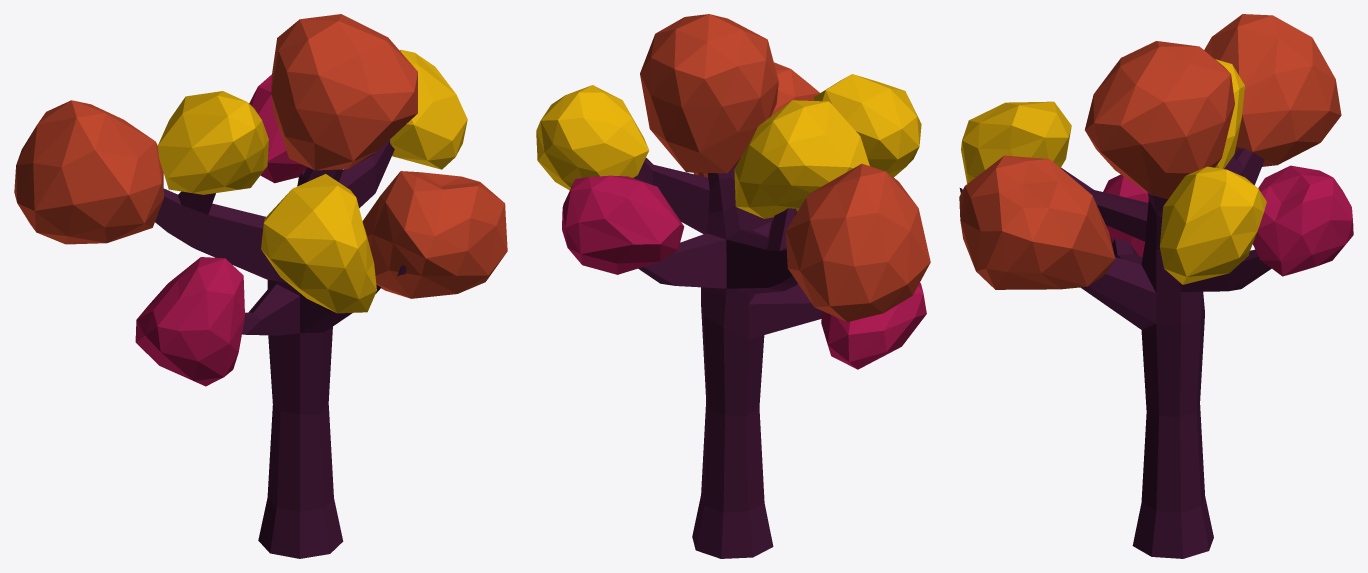
Rendered from Tree.fbx.
3 renders of one model, left to right at view 1: azimuth 30°, elevation 25°; view 2: azimuth 150°, elevation 25°; view 3: azimuth 270°, elevation 25°, orthographic.
Visible parts, largest first — view 1: Mesh; view 2: Mesh; view 3: Mesh.
Part boxes in pixels (x1,y1,x2,y2): Mesh: [14, 14, 507, 558]; Mesh: [536, 14, 930, 558]; Mesh: [959, 14, 1353, 558].
Bounding box in the file's own units: 590 × 727 × 510.
